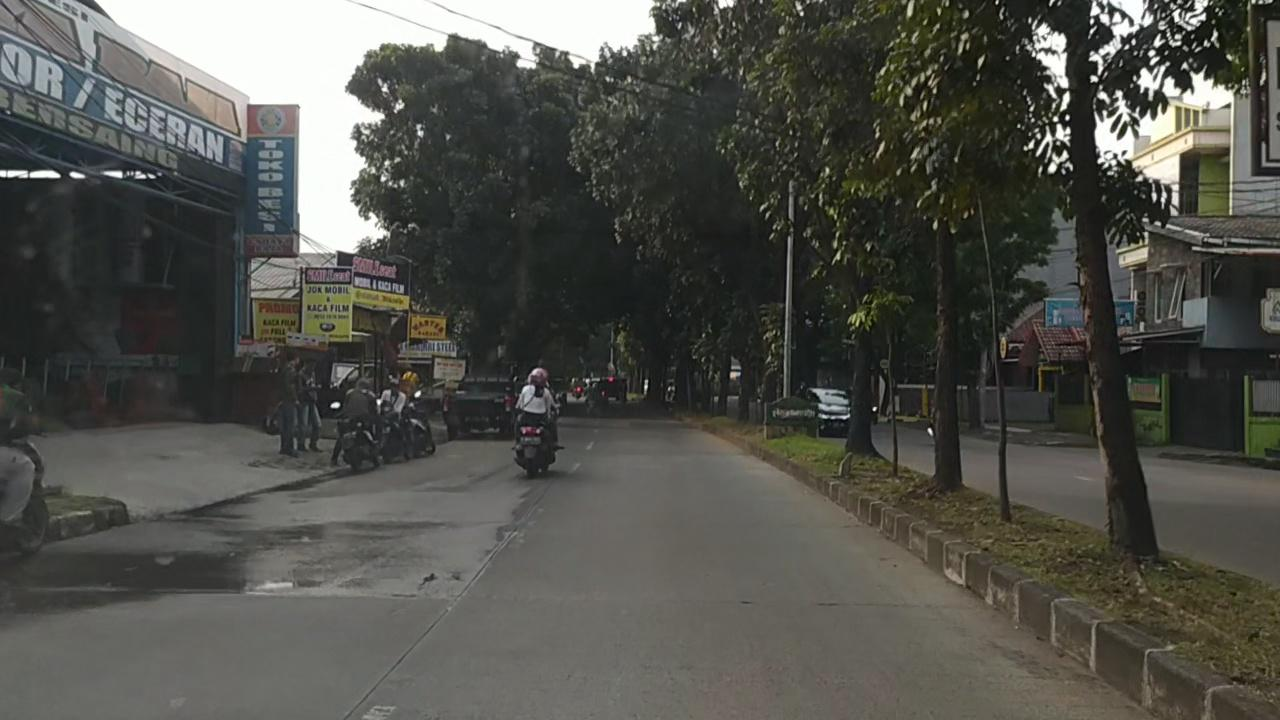pothole: (416, 572, 441, 588)
